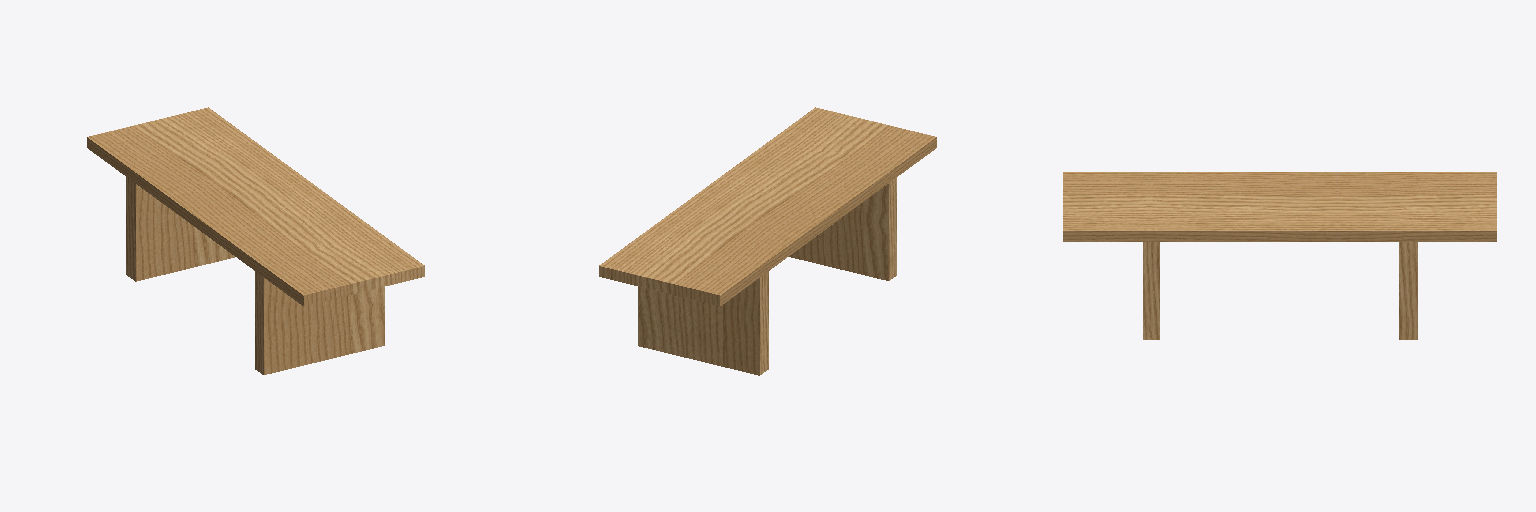
The picture shows the model from 3 angles: view 1: azimuth 30°, elevation 25°; view 2: azimuth 150°, elevation 25°; view 3: azimuth 270°, elevation 25°; orthographic projection.
Parts seen in each view (by area): view 1: bench_1; view 2: bench_1; view 3: bench_1.
Part boxes in pixels (bbox=[...]): bench_1: bbox=[87, 107, 424, 374]; bench_1: bbox=[599, 107, 936, 375]; bench_1: bbox=[1063, 172, 1496, 339].
Bounding box in the file's own units: 3.89 × 3.33 × 11.99.
1 materials, 1 textured.